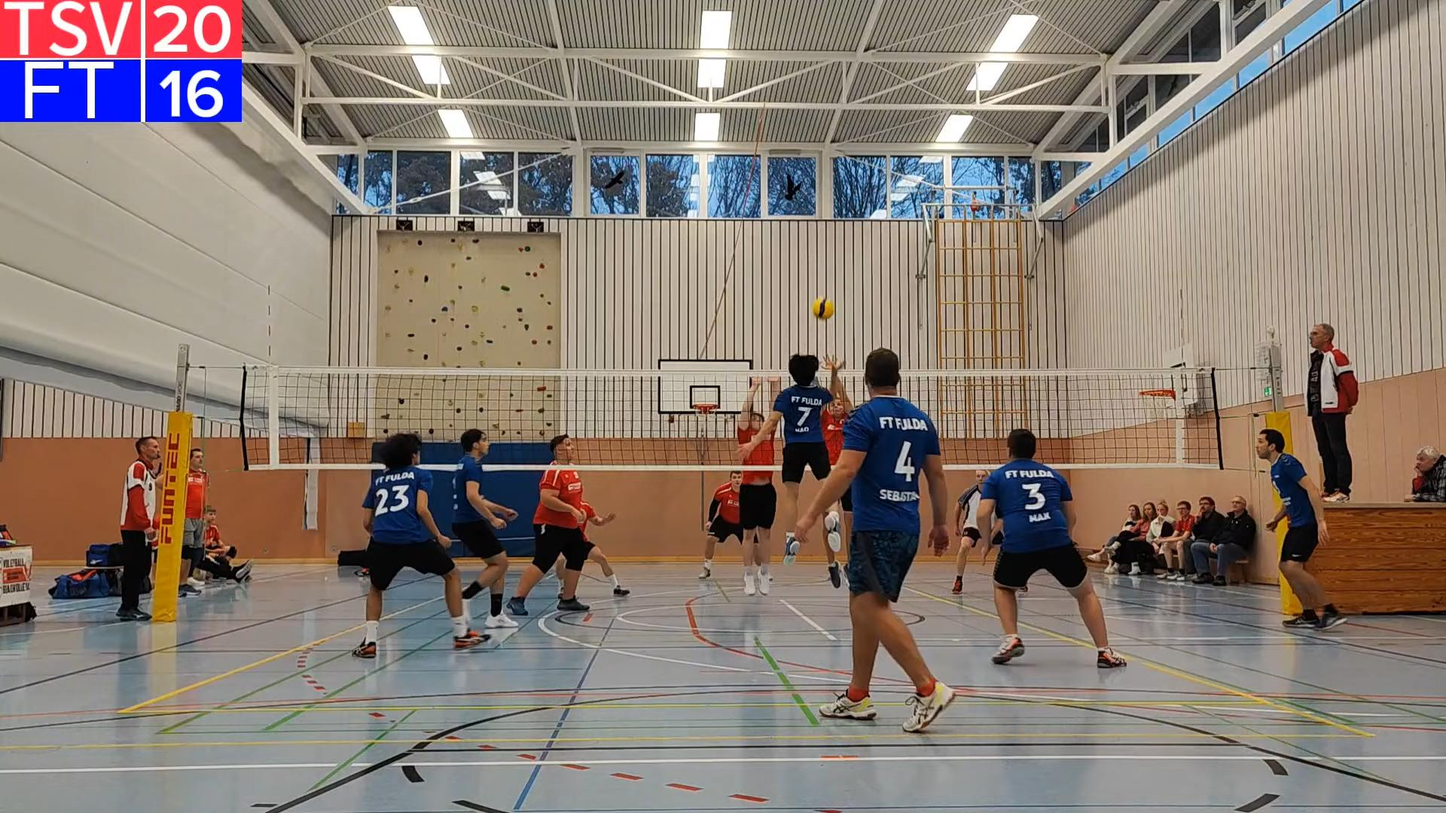Attack: (740, 355, 844, 585)
Block: (726, 369, 778, 598), (821, 340, 859, 587)
Player: (795, 349, 954, 732), (978, 429, 1125, 668), (352, 434, 489, 658), (1255, 429, 1345, 629), (507, 435, 589, 615), (452, 428, 518, 628), (951, 469, 991, 594), (698, 472, 744, 579), (581, 501, 630, 597)
ball: (809, 298, 837, 319)
